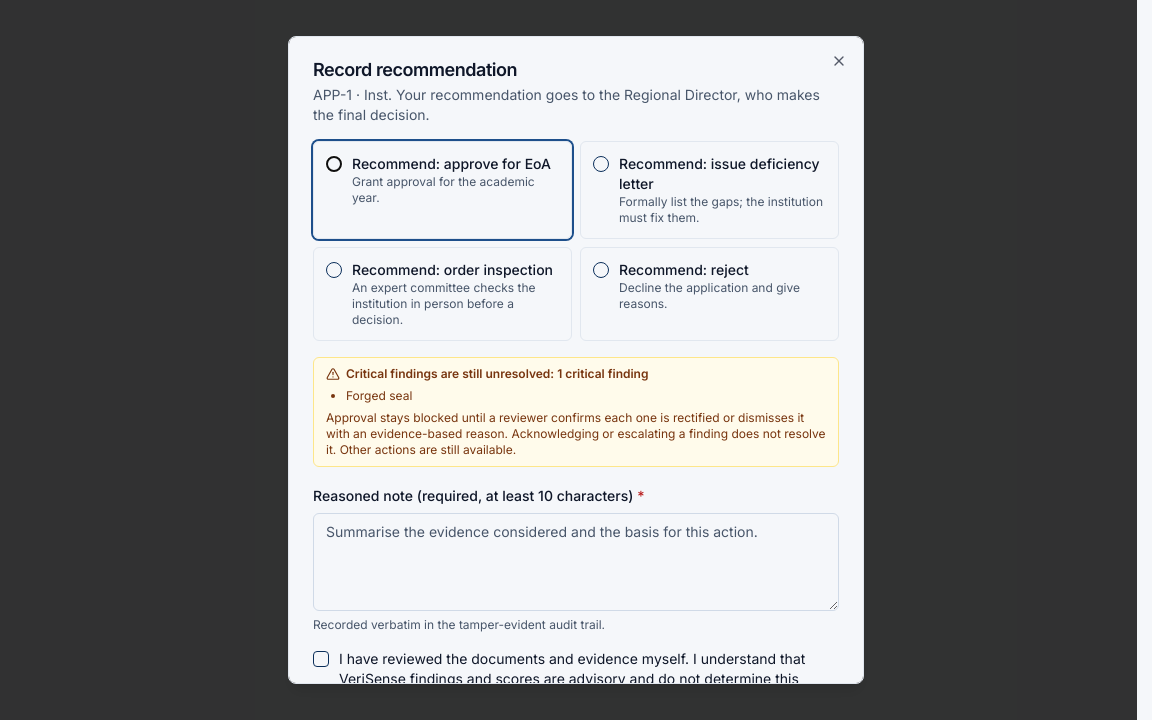
DecisionDialog guard › blocks recommending approval too, and ACKNOWLEDGED does not resolve
Click the radio button next to "Recommend: approve for EoA": click(334, 164) [326, 156, 342, 172]
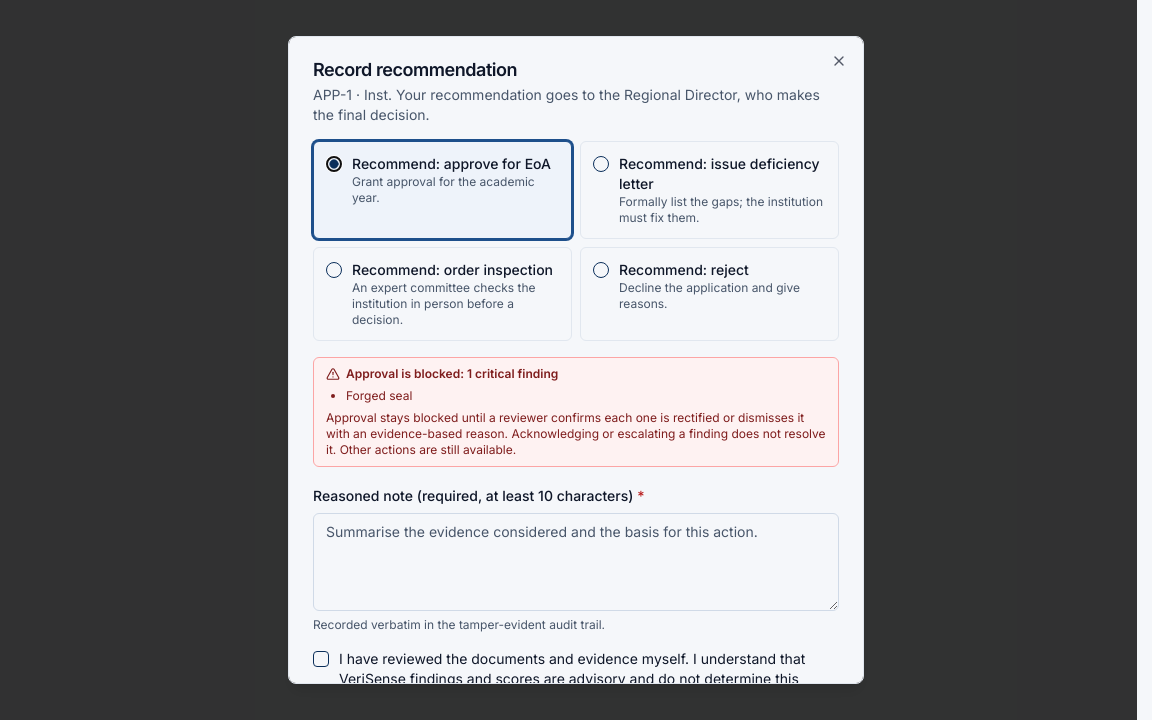
Replace the text in the text box with "A sufficiently long note": (576, 562) [313, 513, 839, 611]
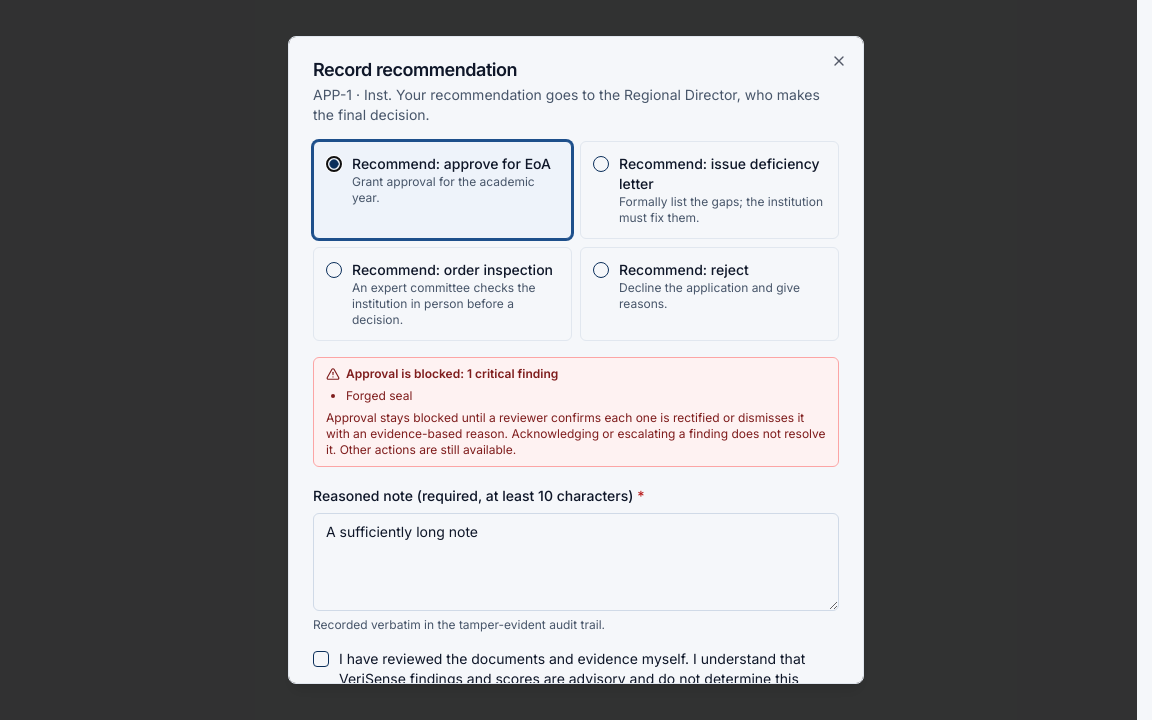
Click the checkbox: click(321, 659) [313, 651, 329, 667]
(page scrolled)
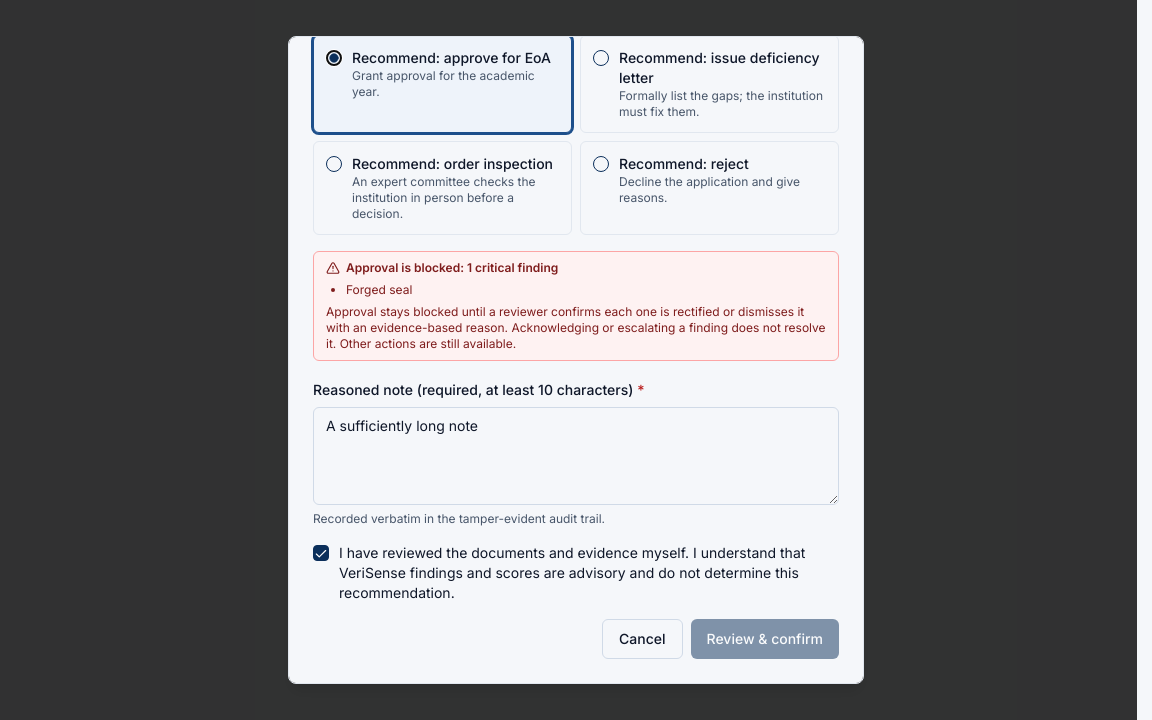
Check: the button "Review & confirm" is disabled, box [690, 619, 839, 659]
